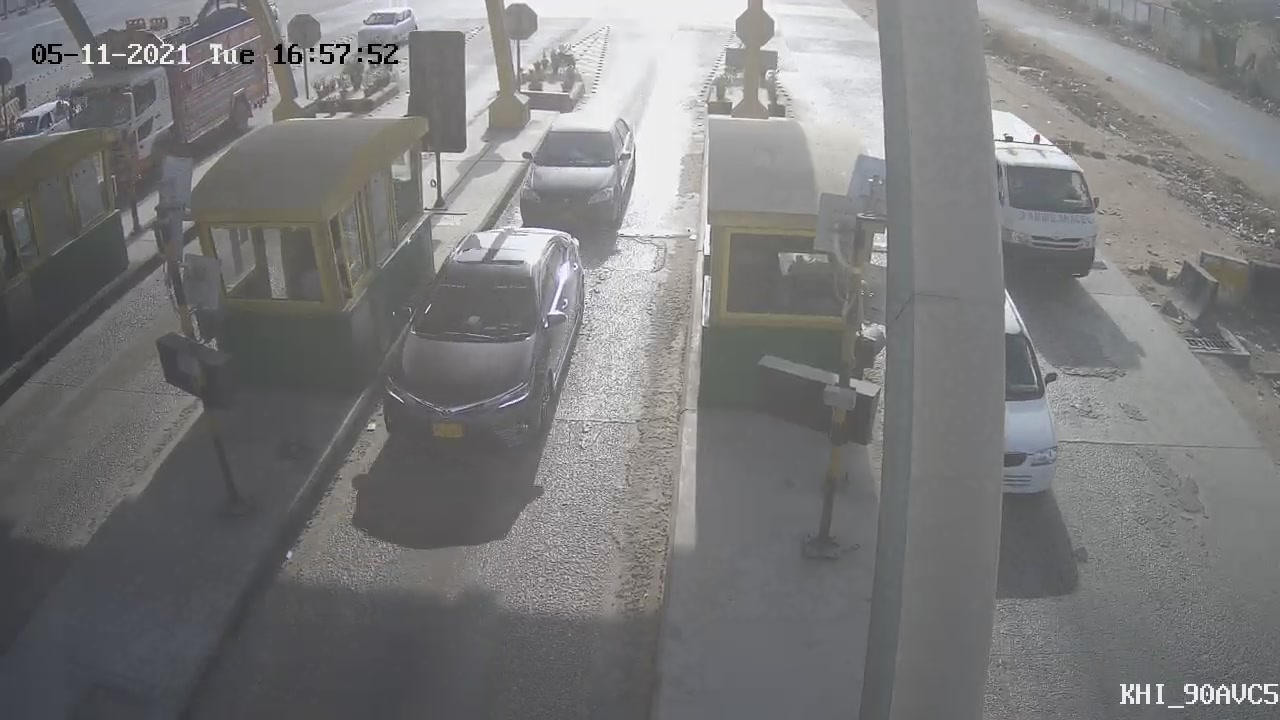F1: (353, 209, 604, 472), (500, 99, 657, 240)
